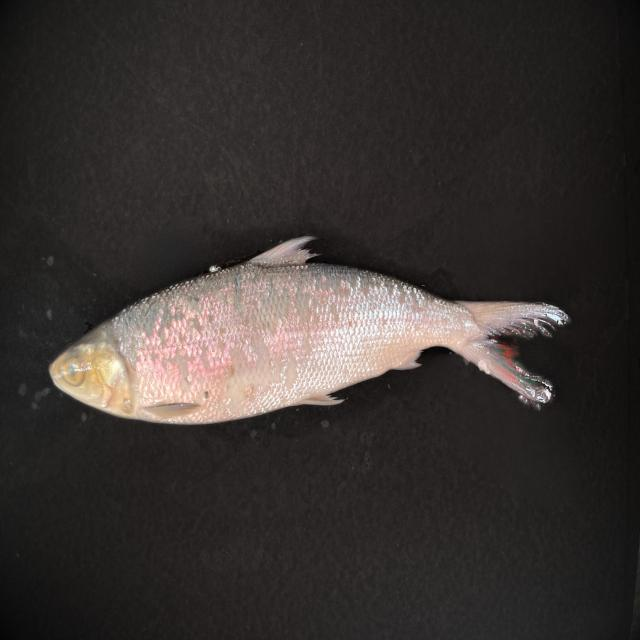750 g: (49, 236, 568, 425)
